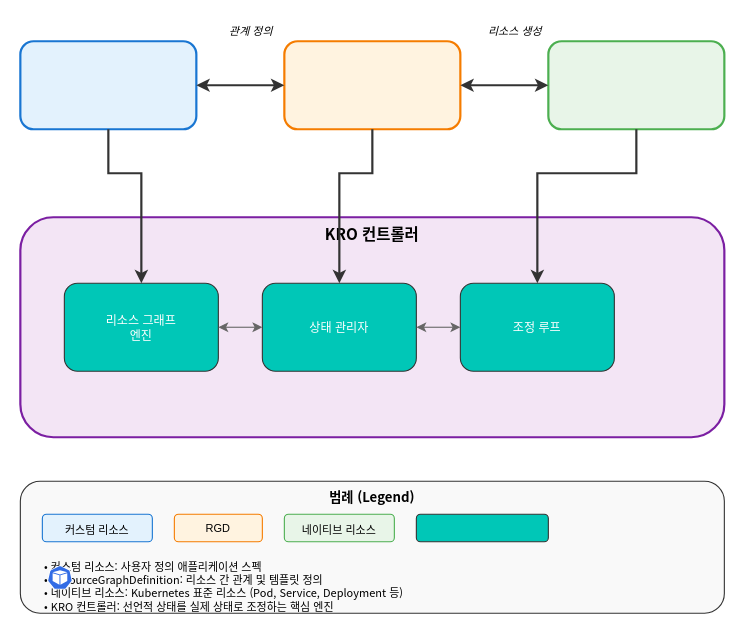
This 744x633 diagram has some shape labels left out. Here are the shapes that lost their labels. From the top down, the centre of each, then its label:
At pixel 108 85: "커스텀 리소스 (CR)".
At pixel 372 85: "ResourceGraph Definition".
At pixel 636 85: "Kubernetes 네이티브 리소스".
At pixel 481 527: "컨트롤러 구성요소".
